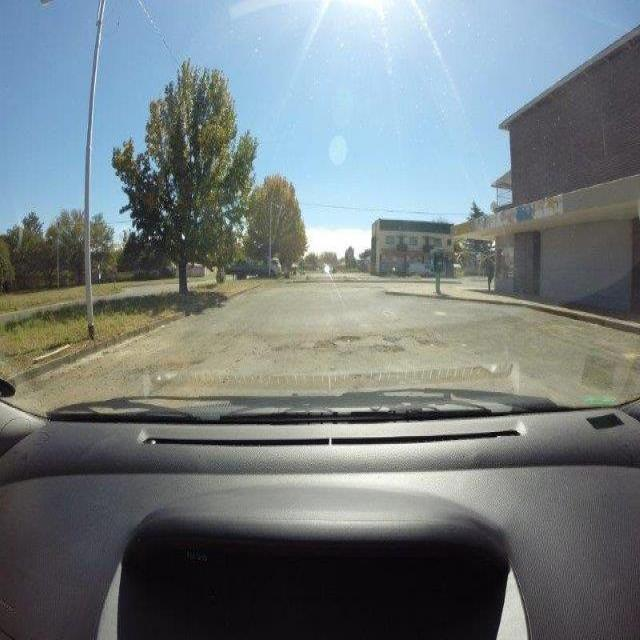jalan retak: (216, 325, 279, 369)
lubang: (130, 352, 209, 392), (366, 328, 447, 355), (291, 330, 361, 354)
